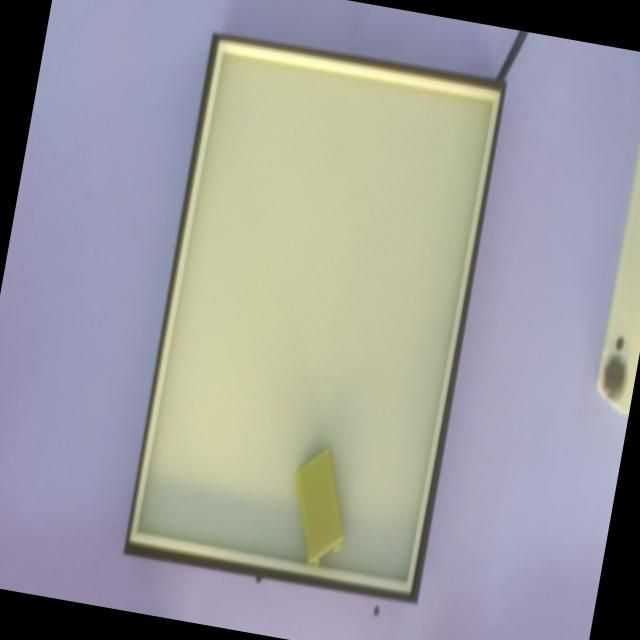bateria: (294, 445, 345, 568)
mesa: (123, 34, 506, 604)
